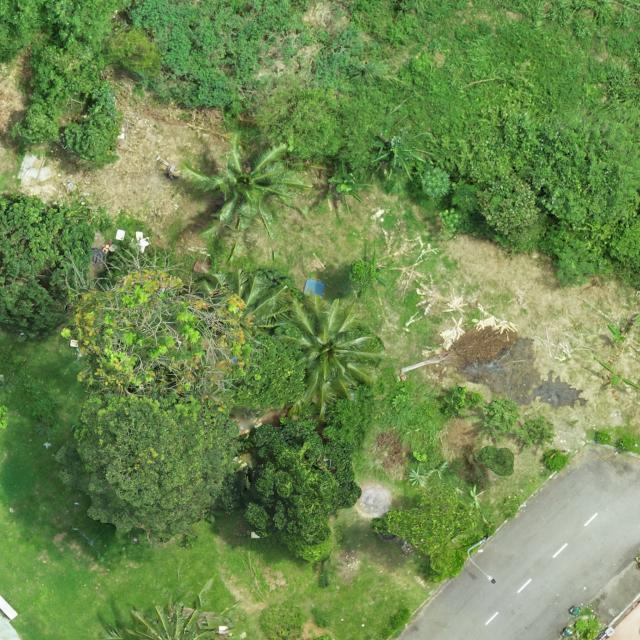banana_tree2: (370, 127, 437, 180), (323, 156, 373, 217)
tree: (53, 241, 250, 401), (52, 389, 244, 545), (220, 418, 364, 547), (9, 40, 124, 168), (181, 130, 314, 240), (0, 194, 95, 342), (278, 294, 390, 419), (370, 484, 482, 583), (224, 331, 310, 417), (195, 267, 297, 330), (106, 599, 241, 640), (539, 220, 612, 288), (475, 172, 542, 235), (258, 600, 307, 640), (515, 413, 556, 450), (482, 398, 520, 434), (474, 445, 515, 477)
